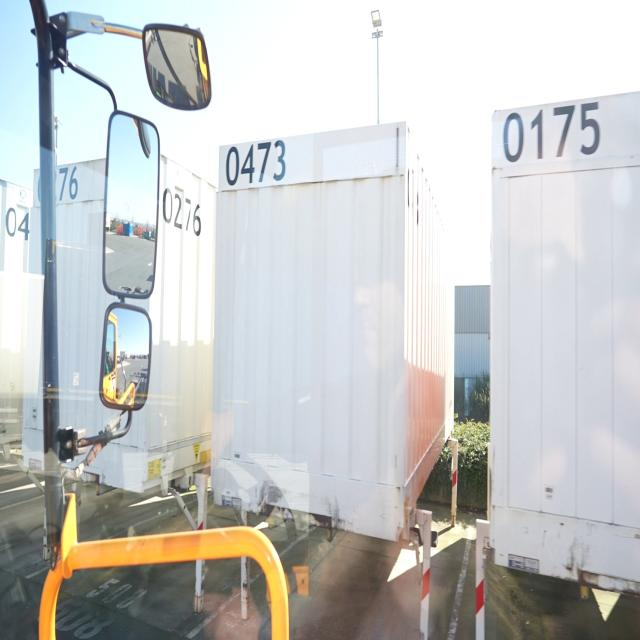Code: (501, 99, 604, 170), (158, 175, 206, 249), (224, 136, 287, 192)
